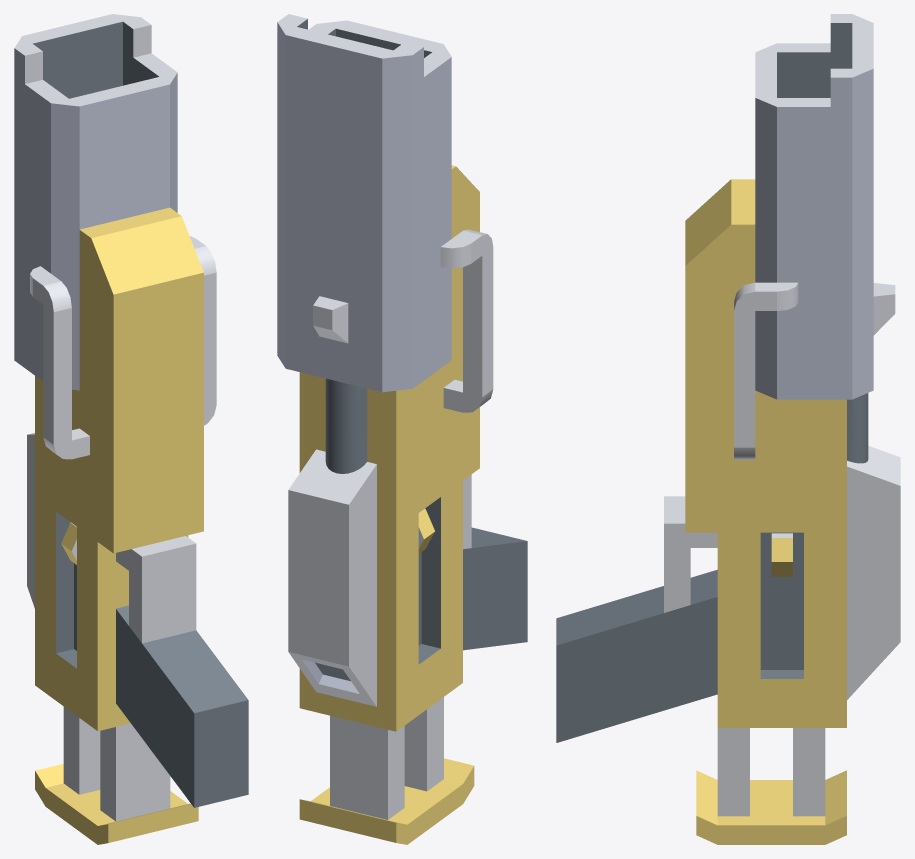
The model's file is shotgun_blaster.fbx.
The picture shows the model from 3 angles, left to right: view 1: azimuth 30°, elevation 25°; view 2: azimuth 150°, elevation 25°; view 3: azimuth 270°, elevation 25°; orthographic projection. The views are drawn at different scales.
Parts seen in each view (by area): view 1: blasterG; view 2: blasterG; view 3: blasterG.
Boxes of the visible parts, x1,y1,x2,y2 form: blasterG: [14, 14, 248, 844]; blasterG: [277, 14, 527, 844]; blasterG: [556, 14, 900, 844].
Bounding box in the file's own units: 18 × 79.59 × 32.
